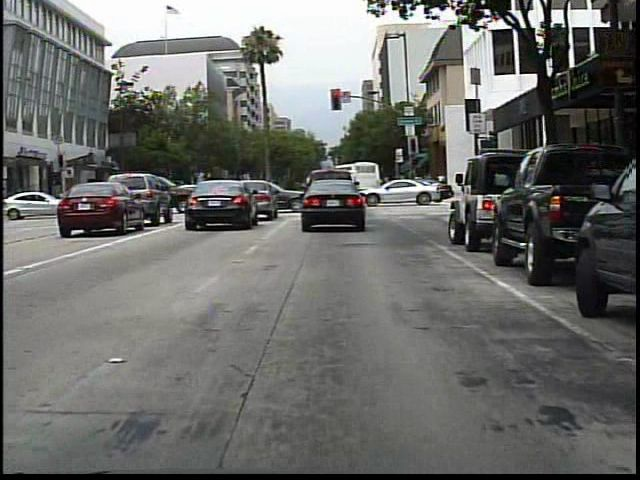person: (435, 170, 452, 201)
